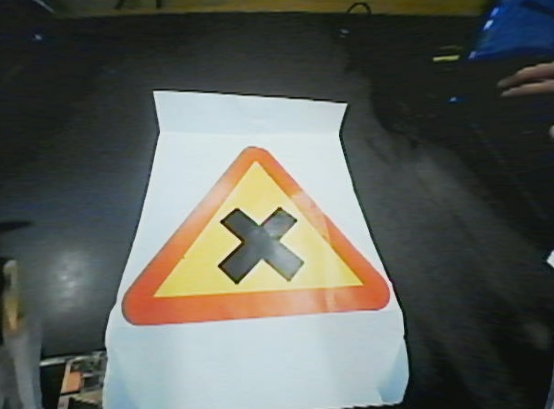junction: (107, 127, 400, 323)
